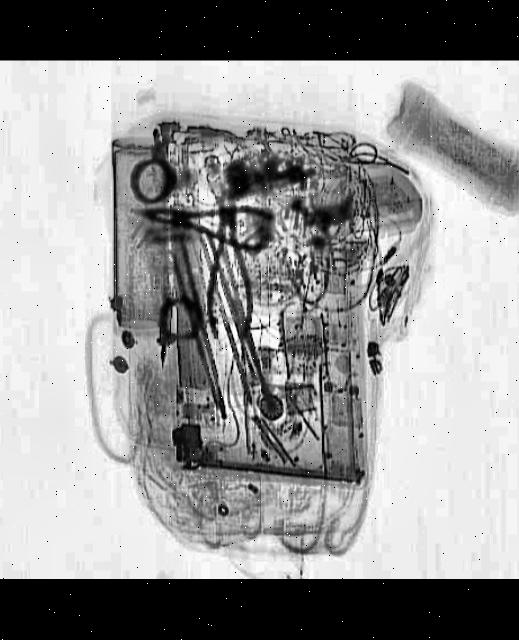Pliers: (124, 190, 273, 256), (202, 197, 250, 342)
